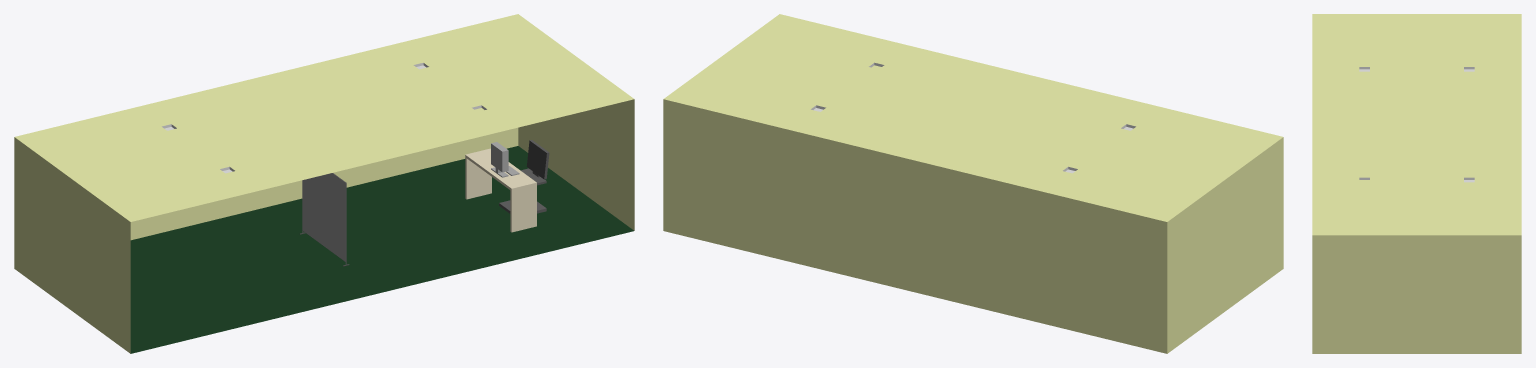
The model's file is Arbeit_Raumtrenner.fbx.
3 renders of one model, left to right at view 1: azimuth 30°, elevation 25°; view 2: azimuth 150°, elevation 25°; view 3: azimuth 270°, elevation 25°, orthographic. The views are drawn at different scales.
Visible parts, largest first — view 1: Arbeit_Raum, Arbeit_Wand, Raumtrenner, Tisch, Stuhl, Bildschirm; view 2: Arbeit_Raum, Arbeit_Wand; view 3: Arbeit_Raum.
Part boxes in pixels (box(x1,y1,x2,y2)): Arbeit_Raum: box(14, 14, 634, 353); Arbeit_Wand: box(130, 127, 518, 240); Raumtrenner: box(299, 173, 349, 266); Tisch: box(465, 148, 536, 232); Stuhl: box(499, 140, 549, 213); Bildschirm: box(491, 142, 508, 177); Arbeit_Raum: box(663, 14, 1283, 353); Arbeit_Wand: box(663, 99, 1167, 353); Arbeit_Raum: box(1312, 14, 1521, 353).
Size of the model in its own units: 1000 by 250 by 400.
